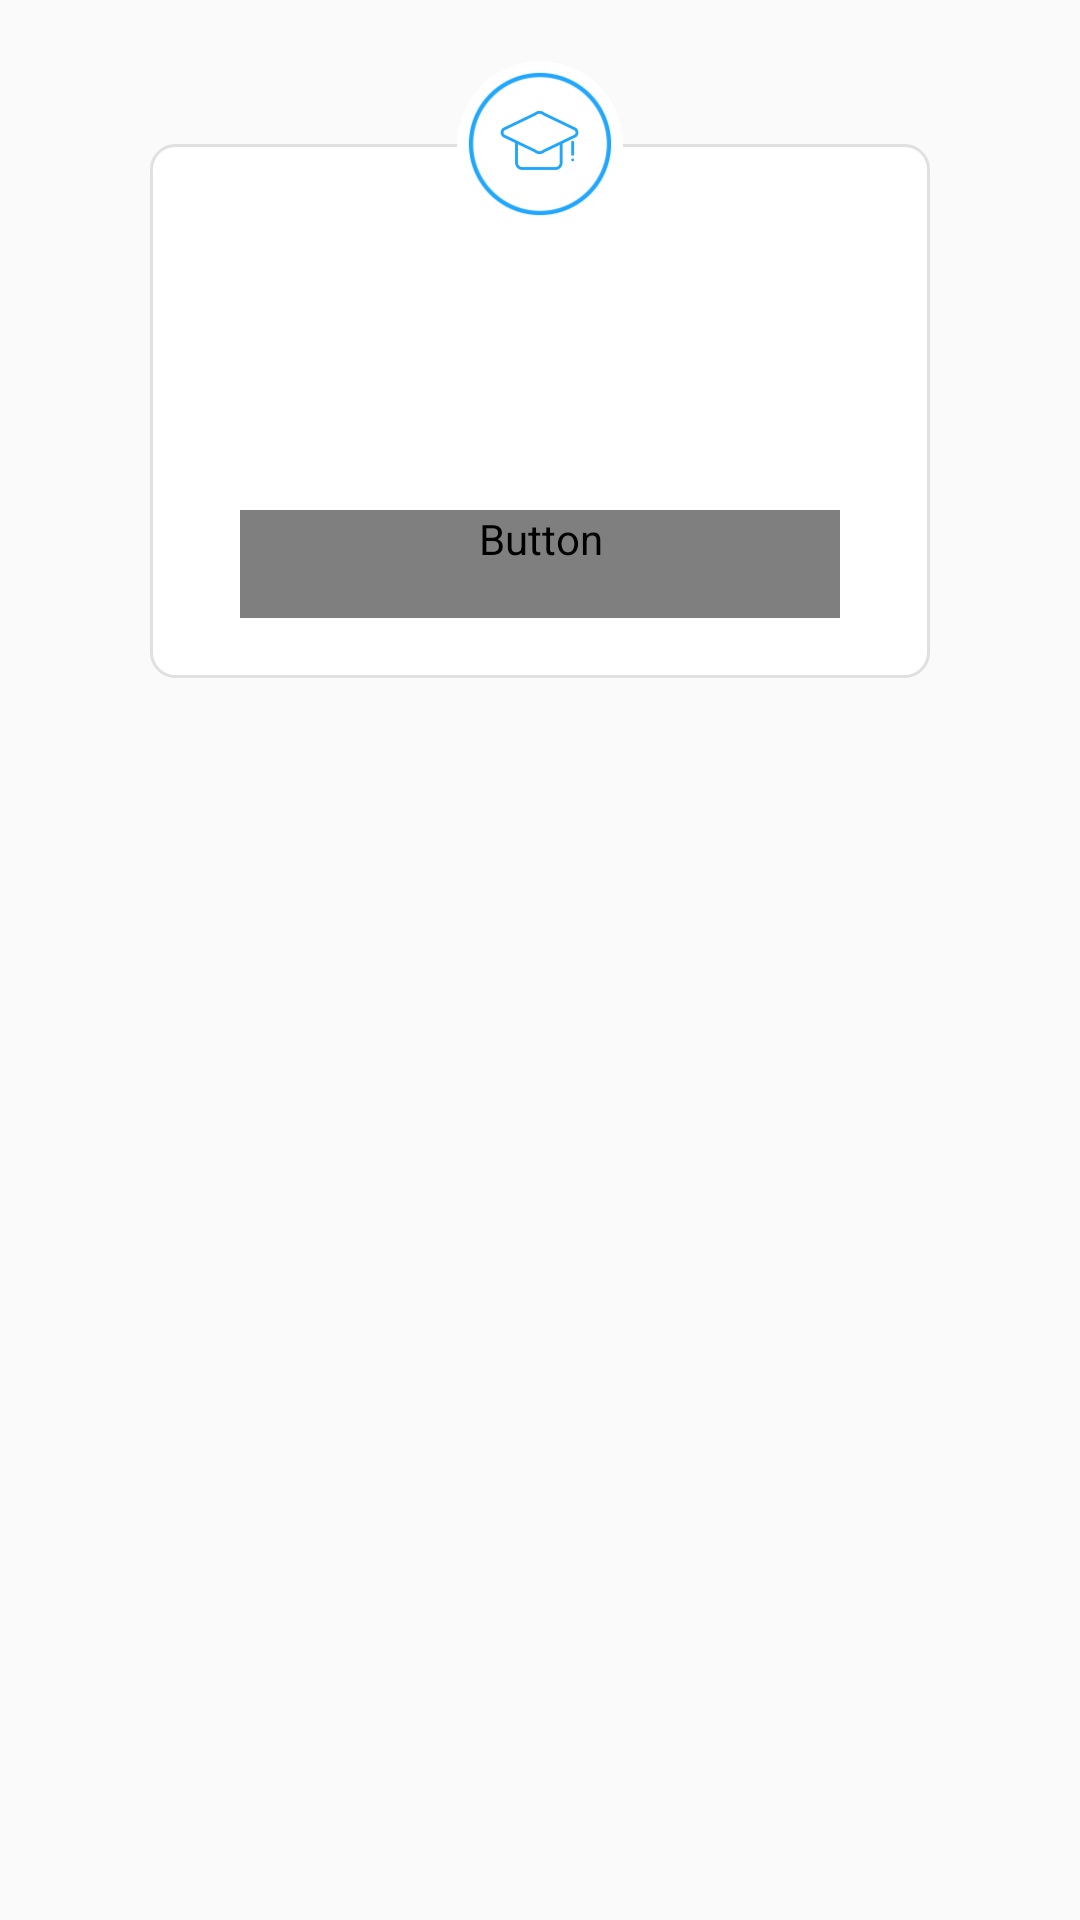

Point at icon controls on the screen. Image size 1080px x 1920px, points as (x=x, y=y).
week course type def: (x=540, y=144)
